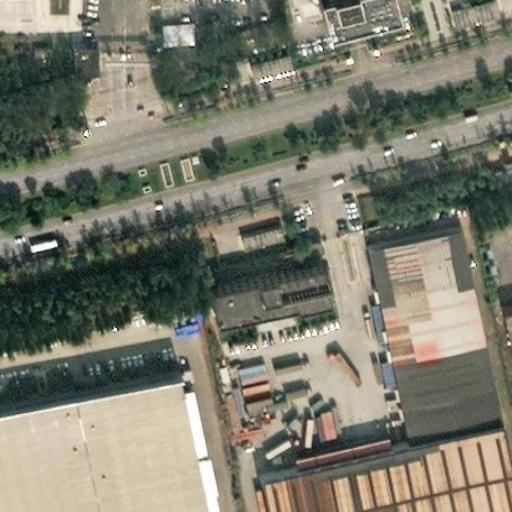building: (354, 216, 491, 434), (240, 414, 511, 512), (200, 248, 319, 308), (281, 425, 376, 459), (228, 213, 274, 238), (183, 439, 208, 482), (73, 33, 101, 71), (158, 16, 196, 42), (234, 356, 267, 379), (173, 316, 202, 338)
